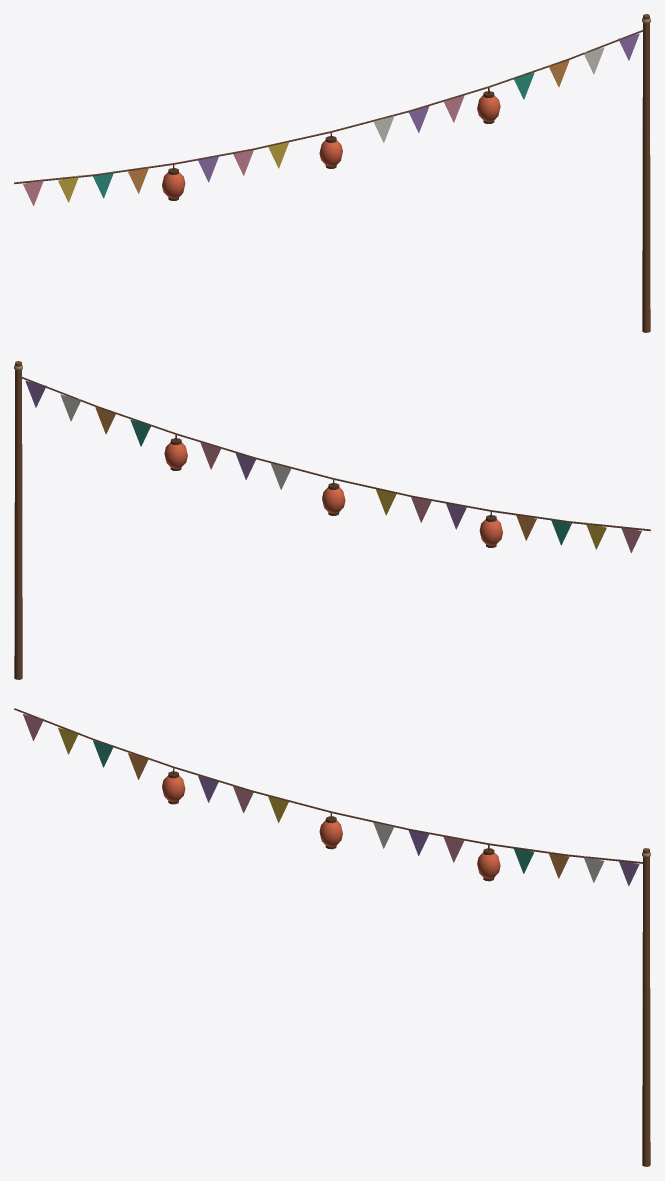
The model's file is bunting_row_short.glb.
3 renders of one model, top to bottom at view 1: azimuth 30°, elevation 25°; view 2: azimuth 150°, elevation 25°; view 3: azimuth 330°, elevation 25°, orthographic.
Visible parts, largest first — view 1: bunting_row_short, bunting_row_short_glow; view 2: bunting_row_short, bunting_row_short_glow; view 3: bunting_row_short, bunting_row_short_glow.
Part boxes in pixels (<box>): bunting_row_short: <box>14,14,650,332</box>; bunting_row_short_glow: <box>162,95,500,198</box>; bunting_row_short: <box>14,361,650,679</box>; bunting_row_short_glow: <box>164,442,502,545</box>; bunting_row_short: <box>14,708,650,1166</box>; bunting_row_short_glow: <box>162,775,500,878</box>.
Bounding box in the file's own units: 10.35 × 4.91 × 0.34.
